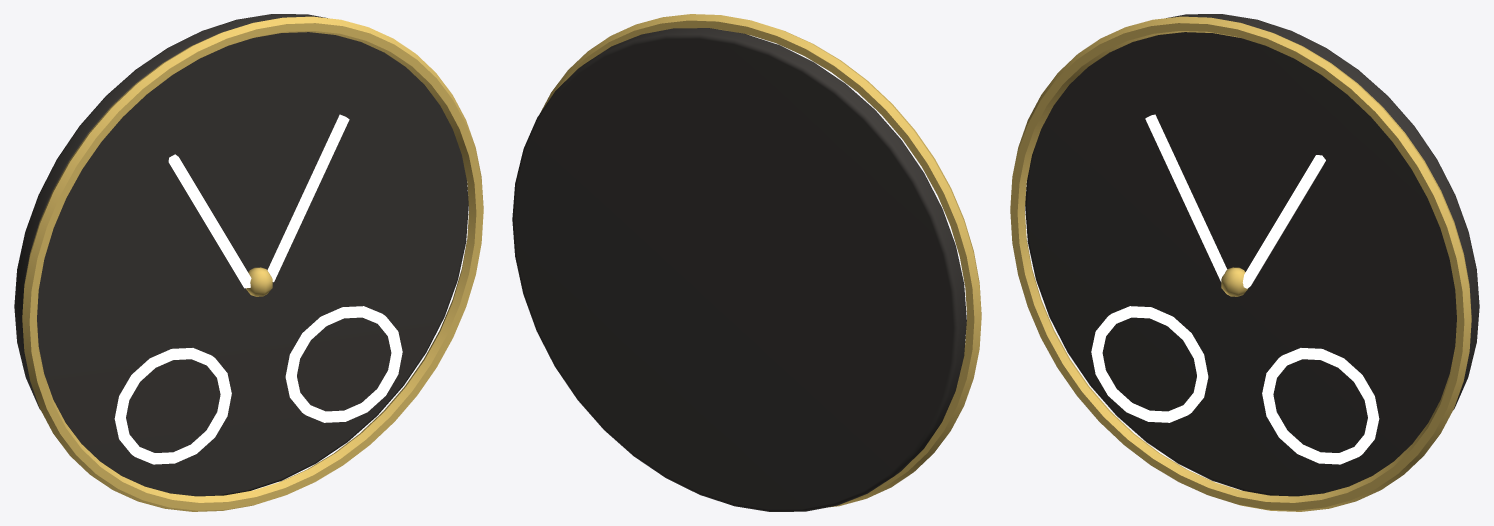
The model's file is sign_scissors_neon.glb.
3 views of the same model, side by side, from view 1: azimuth 30°, elevation 25°; view 2: azimuth 150°, elevation 25°; view 3: azimuth 330°, elevation 25° (orthographic).
Parts seen in each view (by area): view 1: sign_scissors_neon; view 2: sign_scissors_neon; view 3: sign_scissors_neon.
Part boxes in pixels (x1=…): sign_scissors_neon: x1=14, y1=14, x2=483, y2=511; sign_scissors_neon: x1=512, y1=14, x2=981, y2=511; sign_scissors_neon: x1=1010, y1=14, x2=1479, y2=511.
Size of the model in its own units: 0.702 by 0.702 by 0.079.
